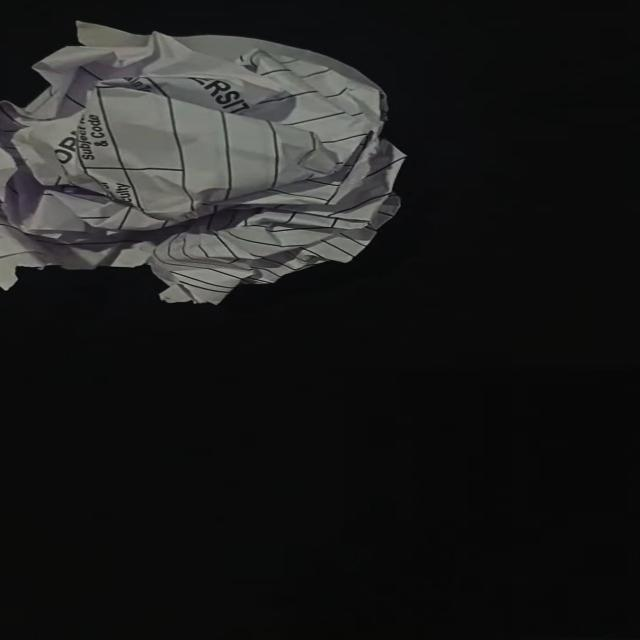PaperBall: (0, 24, 404, 302)
